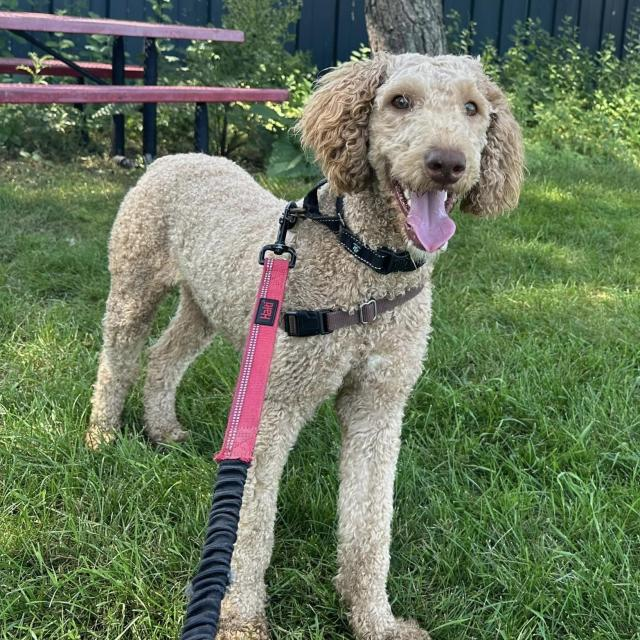Poodle_dog: (287, 41, 535, 270)
